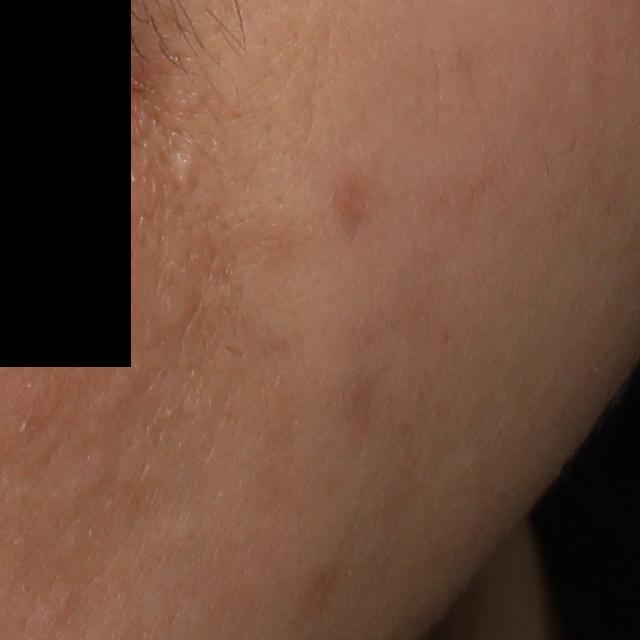hypertrophic_scar: (156, 284, 199, 340), (171, 150, 202, 199)
